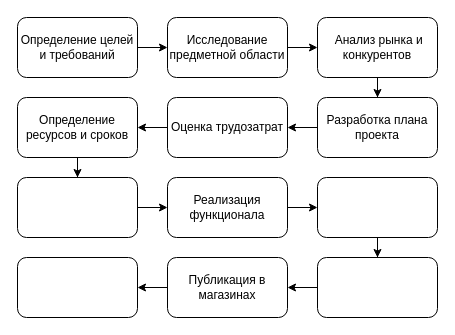
Image size: 455x335. Some labels were removed from this diagram. Here are the shapes that lost their labels. From the top down, the centre of each, then its label:
the point at 77,207: Проектирование системы
the point at 377,207: Проверка функциональности
the point at 77,287: Поддержка пользователей
the point at 377,287: Исправление ошибок
